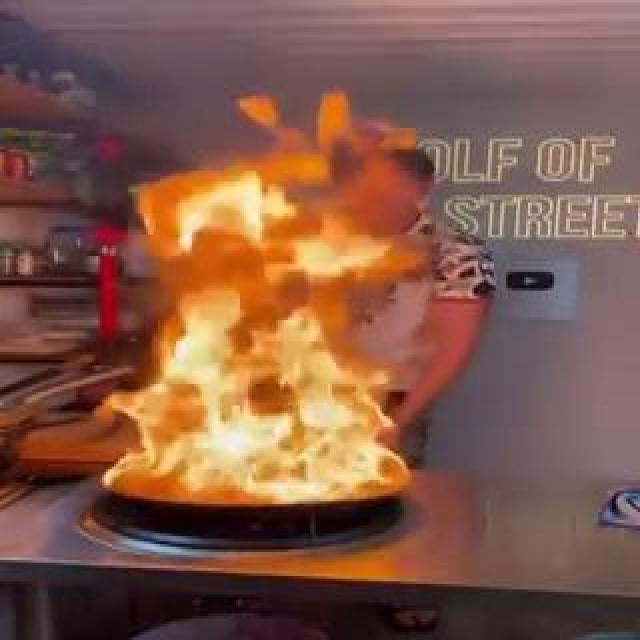Fire: (278, 304, 360, 414)
